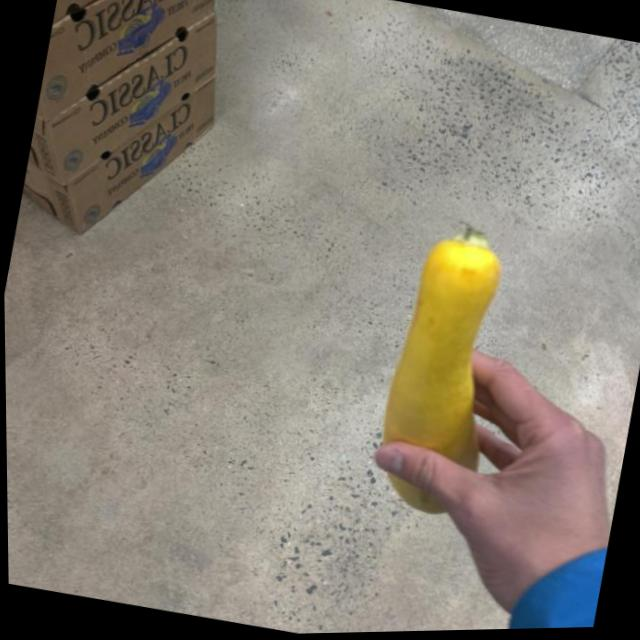Squash: (361, 223, 513, 523)
